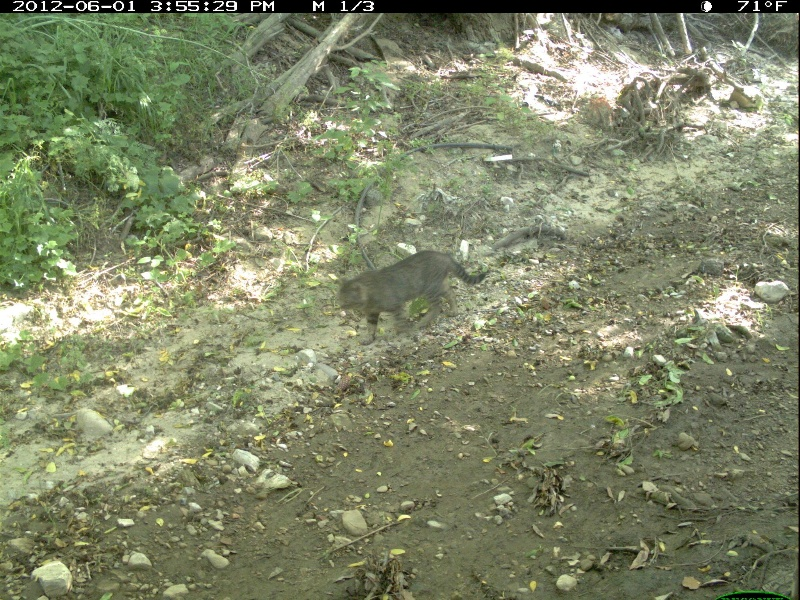cat: (336, 239, 488, 348)
